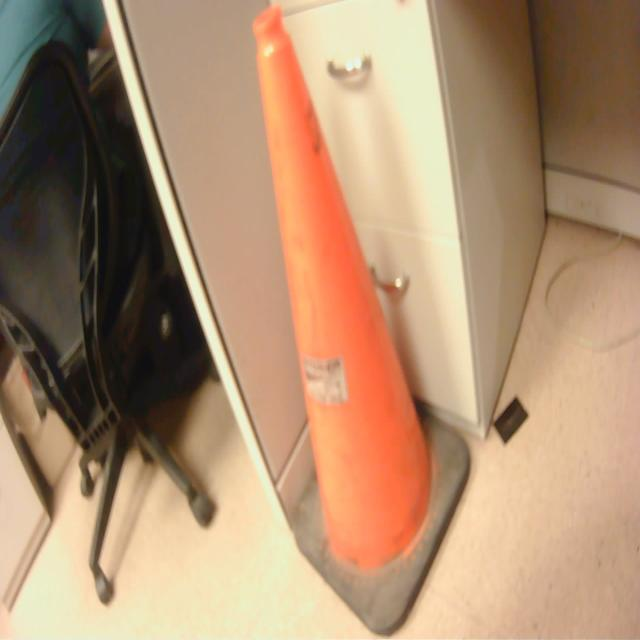traffic cone: (248, 3, 479, 640)
